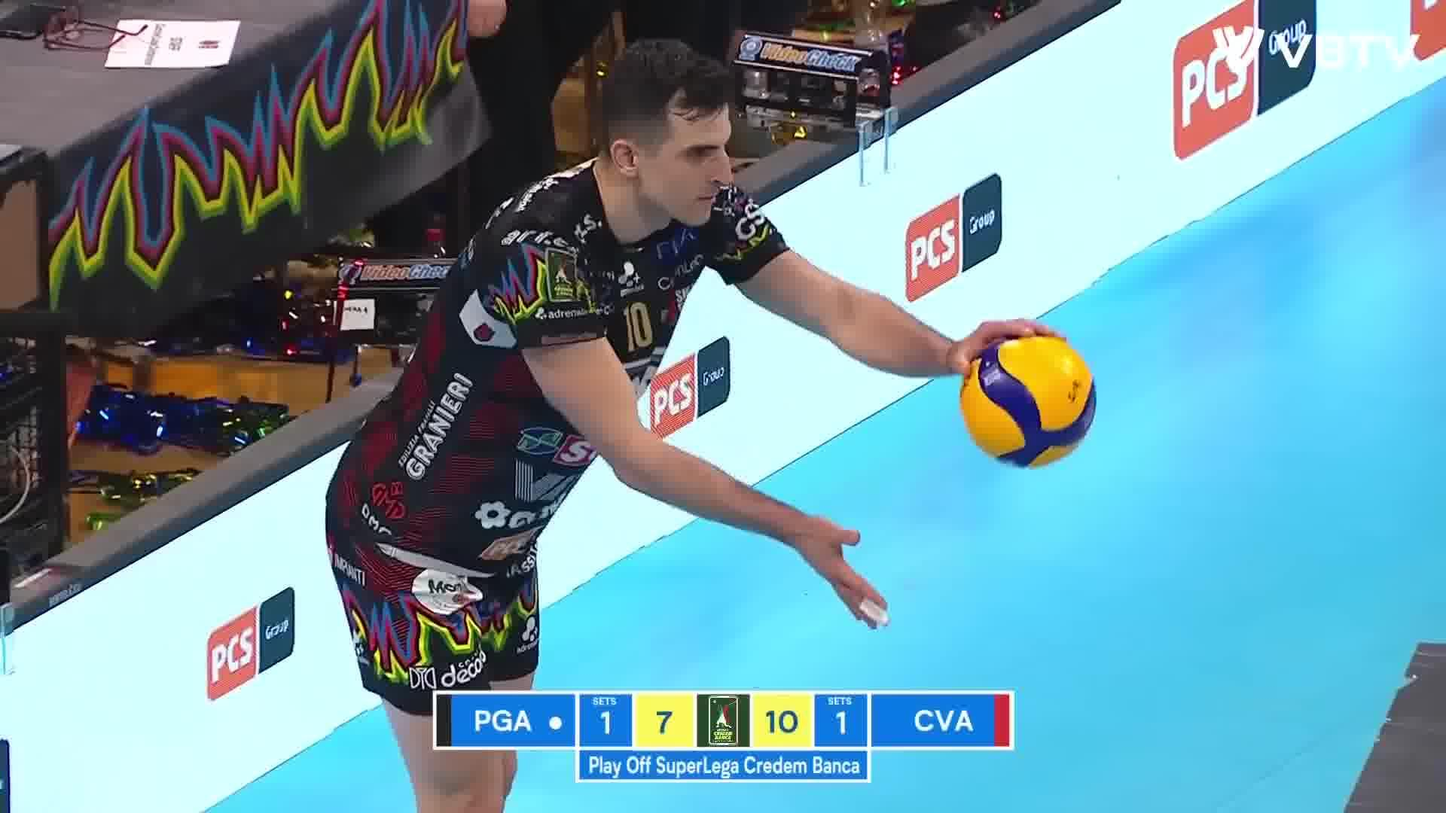balls: (959, 330, 1101, 475)
